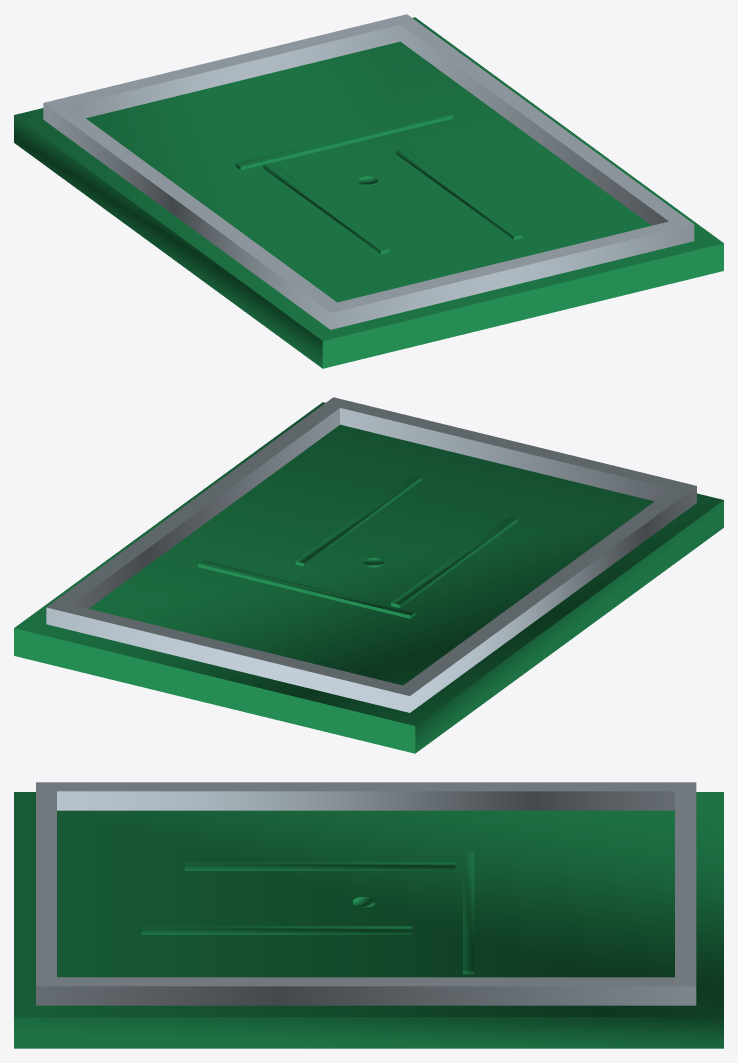
The model's file is board5.fbx.
3 renders of one model, top to bottom at view 1: azimuth 30°, elevation 25°; view 2: azimuth 150°, elevation 25°; view 3: azimuth 270°, elevation 25°, orthographic. The views are drawn at different scales.
Visible parts, largest first — view 1: Box002, Rectangle0; view 2: Box002, Rectangle0; view 3: Box002, Rectangle0.
Part boxes in pixels (x1,y1,x2,y2): Box002: (14, 17, 723, 368); Rectangle0: (43, 14, 694, 329); Box002: (14, 402, 723, 753); Rectangle0: (46, 397, 696, 712); Box002: (14, 792, 723, 1048); Rectangle0: (36, 782, 696, 1005).
Size of the model in its own units: 135 by 14.27 by 180.
